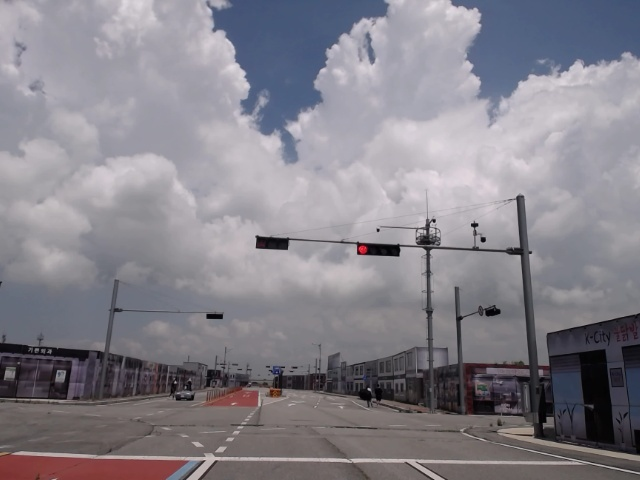red_4: (357, 244, 399, 256)
